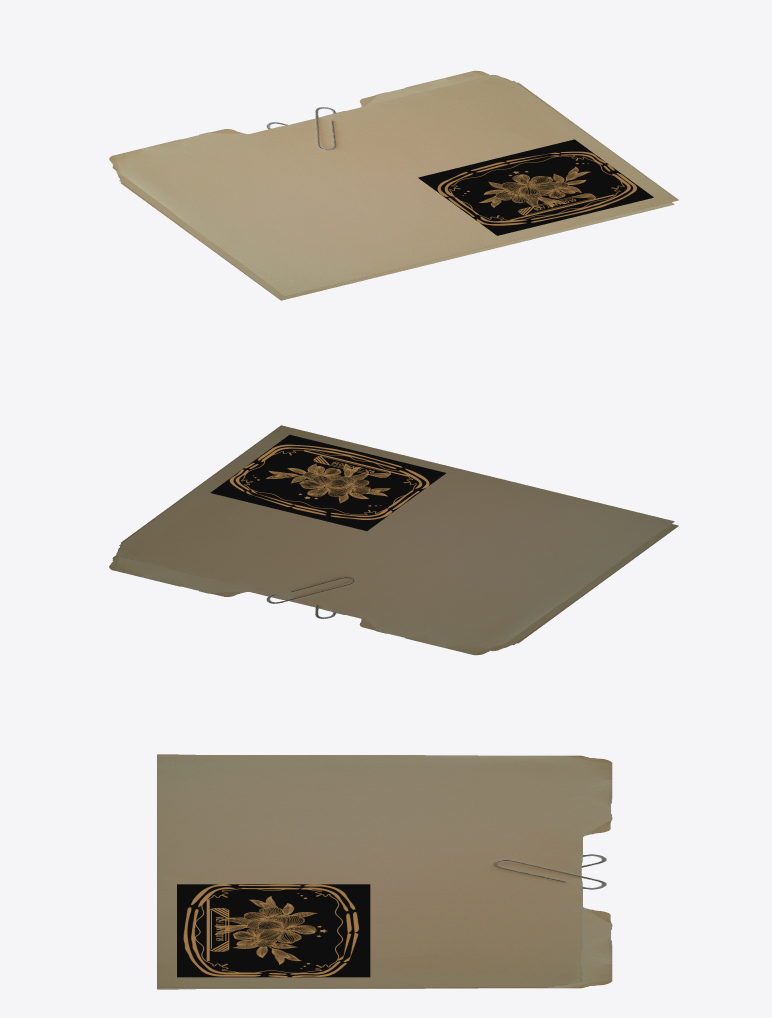
Rendered from seal1.obj.
3 renders of one model, top to bottom at view 1: azimuth 30°, elevation 25°; view 2: azimuth 150°, elevation 25°; view 3: azimuth 270°, elevation 25°, orthographic. The views are drawn at different scales.
Visible parts, largest first — view 1: Plane01, Seal1, Duplicate00; view 2: Plane01, Seal1, Duplicate00; view 3: Plane01, Seal1, Duplicate00.
Boxes of the visible parts, x1,y1,x2,y2 form: Plane01: (109,74,678,296); Seal1: (418,139,653,235); Duplicate00: (116,70,674,300); Plane01: (116,425,674,655); Seal1: (210,435,445,530); Duplicate00: (109,524,678,651); Plane01: (157,754,612,987); Seal1: (177,884,370,977); Duplicate00: (157,854,612,989).
Bounding box in the file's own units: 5.05 × 0.0437 × 6.12.
